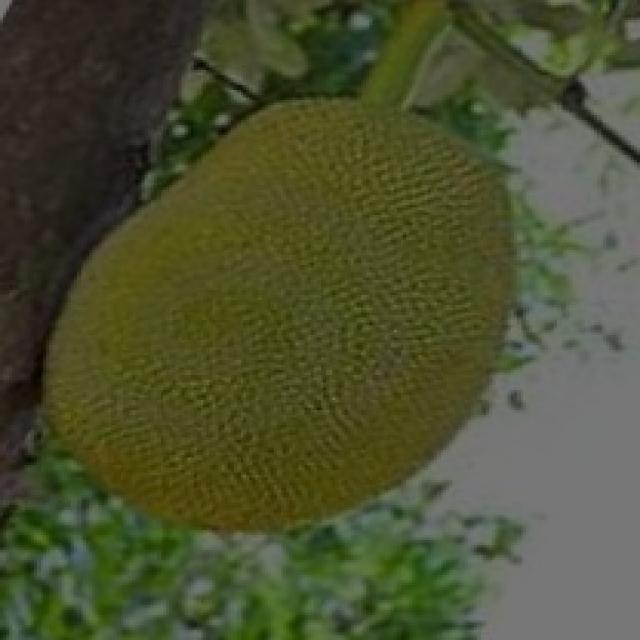Fruit: (135, 60, 554, 392)
